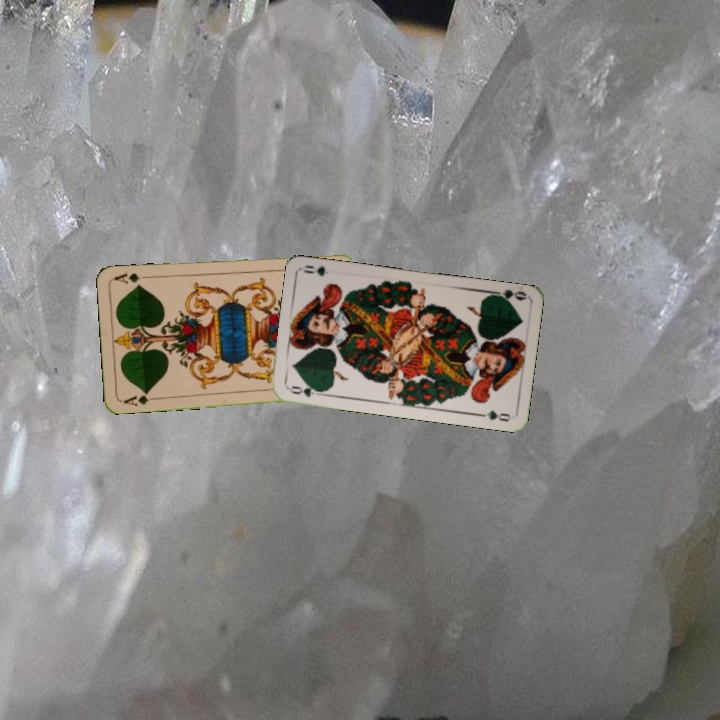GA: (118, 388, 159, 408)
GO: (487, 285, 528, 305), (285, 381, 325, 400)
